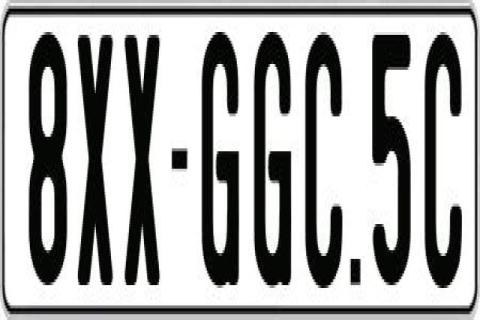0: (28, 23, 69, 276), (371, 29, 411, 279)
C: (302, 26, 346, 282), (422, 35, 465, 291)
G: (200, 27, 244, 280), (251, 29, 291, 282)
X: (125, 35, 163, 291), (77, 29, 115, 282)
